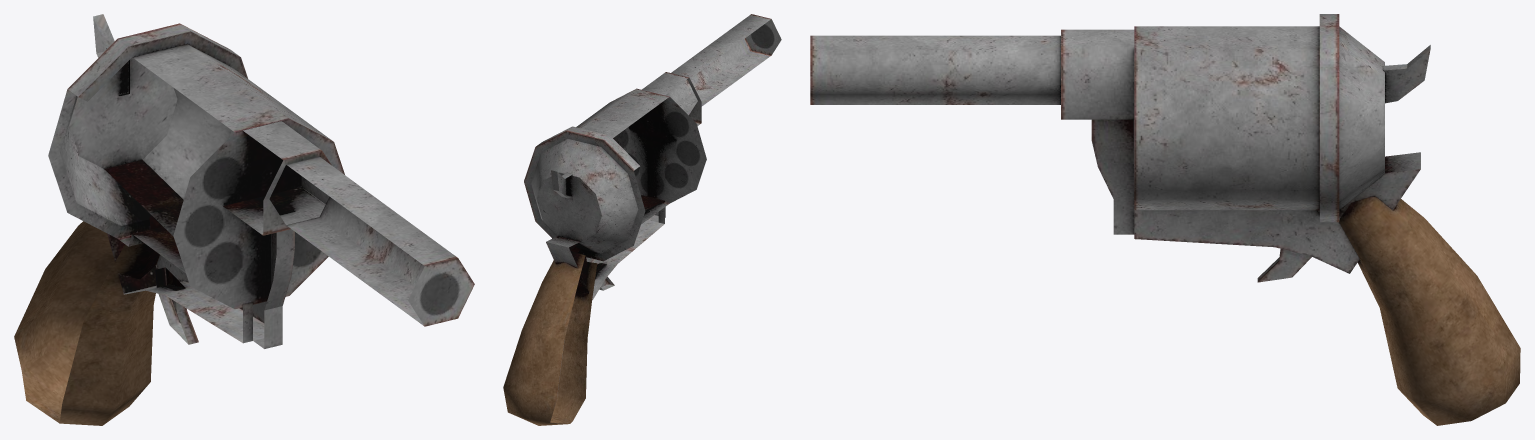
Rendered from gun.glb.
The picture shows the model from 3 angles, left to right: view 1: azimuth 30°, elevation 25°; view 2: azimuth 150°, elevation 25°; view 3: azimuth 270°, elevation 25°; orthographic projection. The views are drawn at different scales.
Parts seen in each view (by area): view 1: pCylinder6; view 2: pCylinder6; view 3: pCylinder6.
Boxes of the visible parts, left/top/right/bottom form: pCylinder6: left=14, top=14, right=474, bottom=425; pCylinder6: left=503, top=14, right=781, bottom=425; pCylinder6: left=810, top=14, right=1520, bottom=425.
Size of the model in its own units: 0.0226 by 0.0461 by 0.0766.
Materials: 1 (1 with a texture image).
